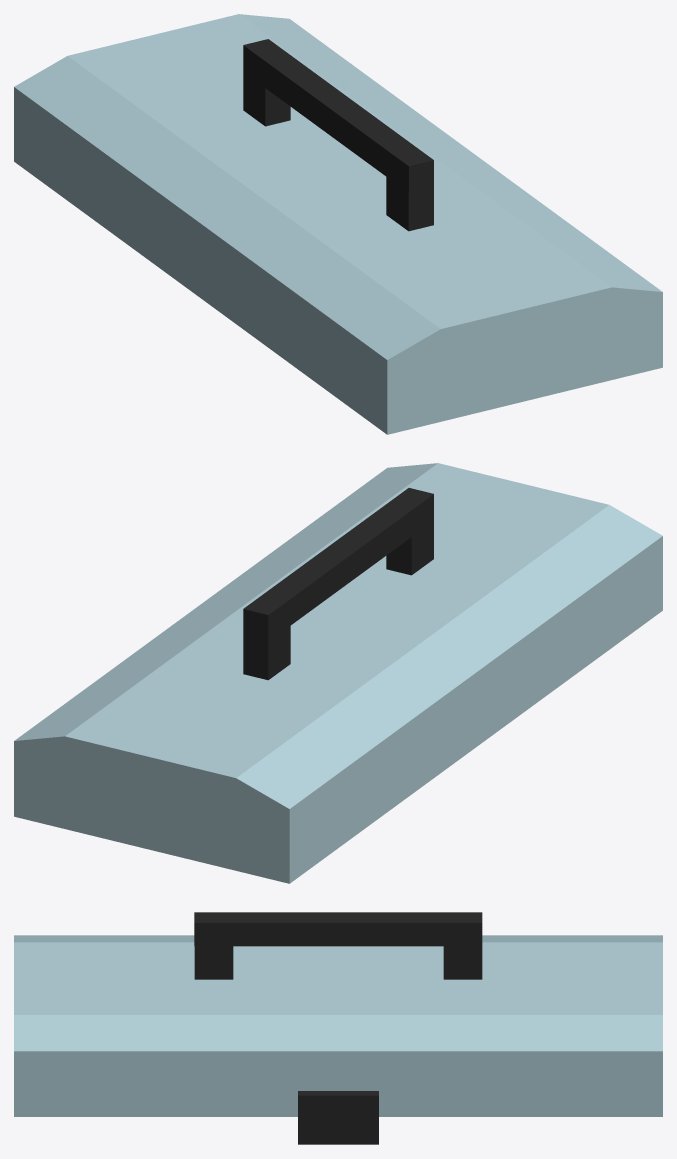
The model's file is ToolBox_T.fbx.
3 renders of one model, top to bottom at view 1: azimuth 30°, elevation 25°; view 2: azimuth 150°, elevation 25°; view 3: azimuth 270°, elevation 25°, orthographic. The views are drawn at different scales.
Parts seen in each view (by area): view 1: Cube, Cube.004, Cube.003, Cube.005; view 2: Cube, Cube.004, Cube.005, Cube.003; view 3: Cube, Cube.004, Cube.002, Cube.003, Cube.005.
Part boxes in pixels (x1,y1,x2,y2): Cube: (14,14,662,434); Cube.004: (243,39,433,192); Cube.003: (386,177,433,231); Cube.005: (243,72,290,126); Cube: (14,463,662,883); Cube.004: (243,488,433,641); Cube.005: (243,626,290,680); Cube.003: (386,521,433,575); Cube: (14,935,662,1116); Cube.004: (194,912,482,946); Cube.002: (298,1091,378,1144); Cube.003: (194,946,233,979); Cube.005: (443,946,482,979).
Bounding box in the file's own units: 202 × 126 × 453.
